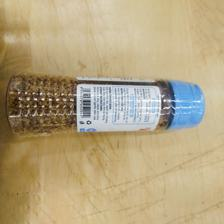TayNinh_blue: (6, 72, 205, 136)
